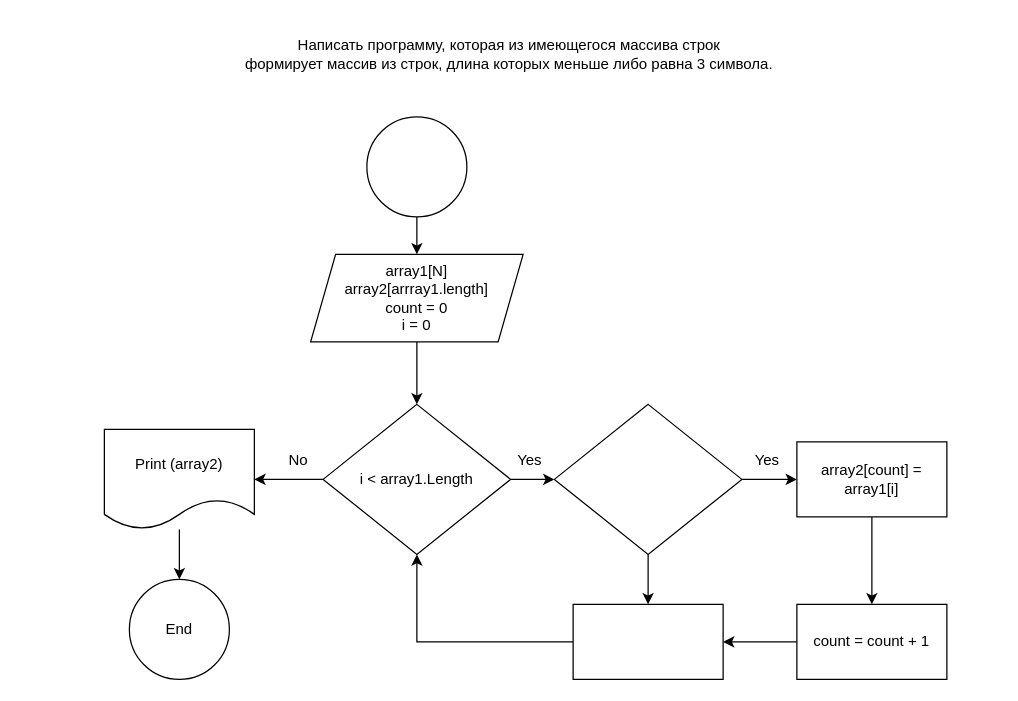
Image size: 1018x701. Some labels were removed from this diagram. The box of each missing label's shape, as (x1, y1, x2, y2) in pixels:
array1[i].Length <= 3: (553, 403, 742, 554)
i = i + 1: (572, 603, 723, 679)
Start: (366, 116, 467, 217)
